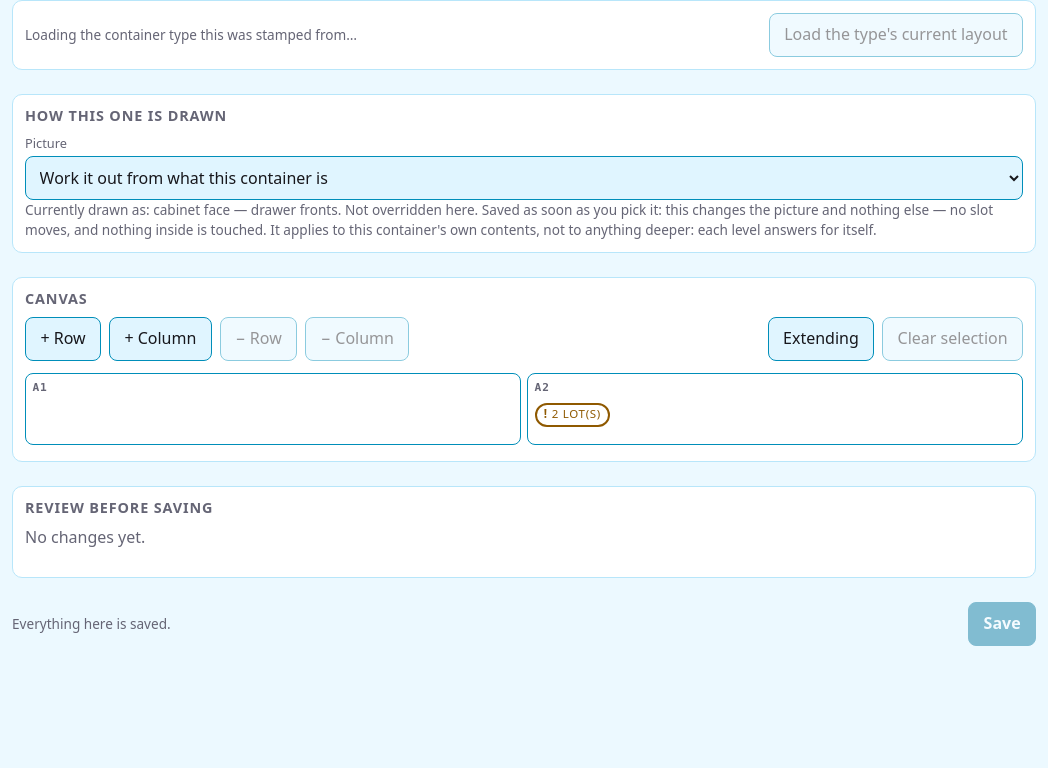
Test: how this one container is drawn › sends an explicit null to hand the drawing back to the type
The image size is (1048, 768).
Select "List — rows, no geometry" in the dropdown labelled "Picture" at (524, 178), box [25, 156, 1023, 200]
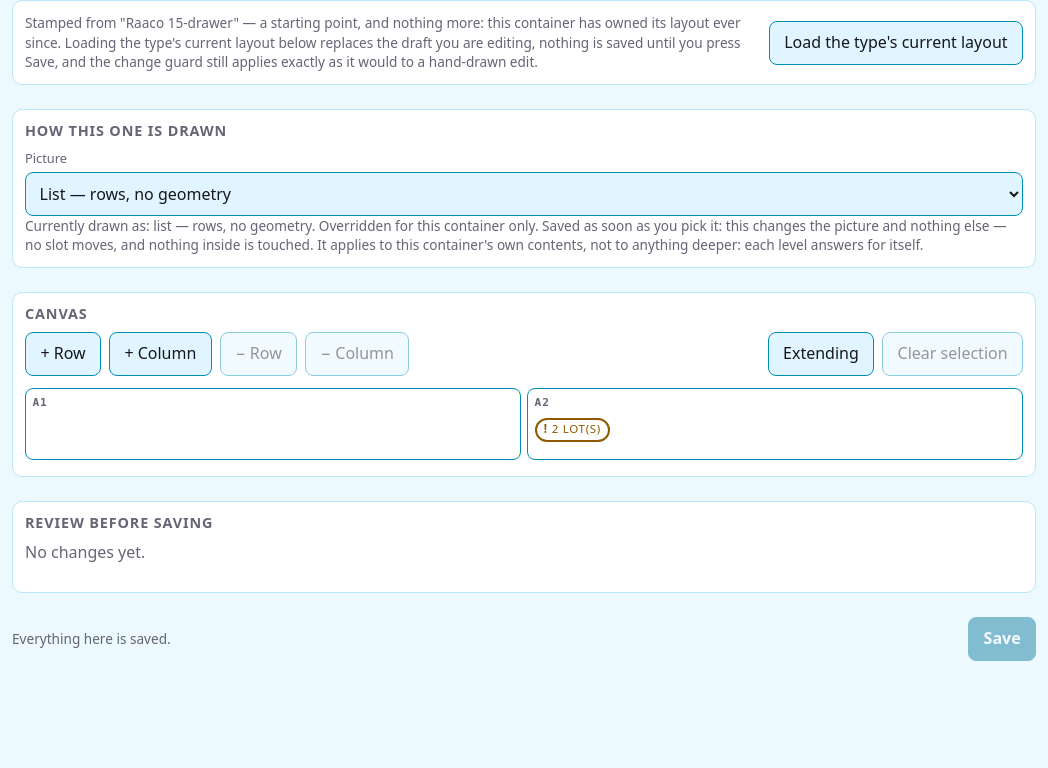
Expected: the text "Overridden for this container only" is shown, [319, 216, 538, 234]
Select "Whatever \"Raaco 15-drawer\" says" in the dropdown labelled "Picture" at (524, 194), box [25, 172, 1023, 216]
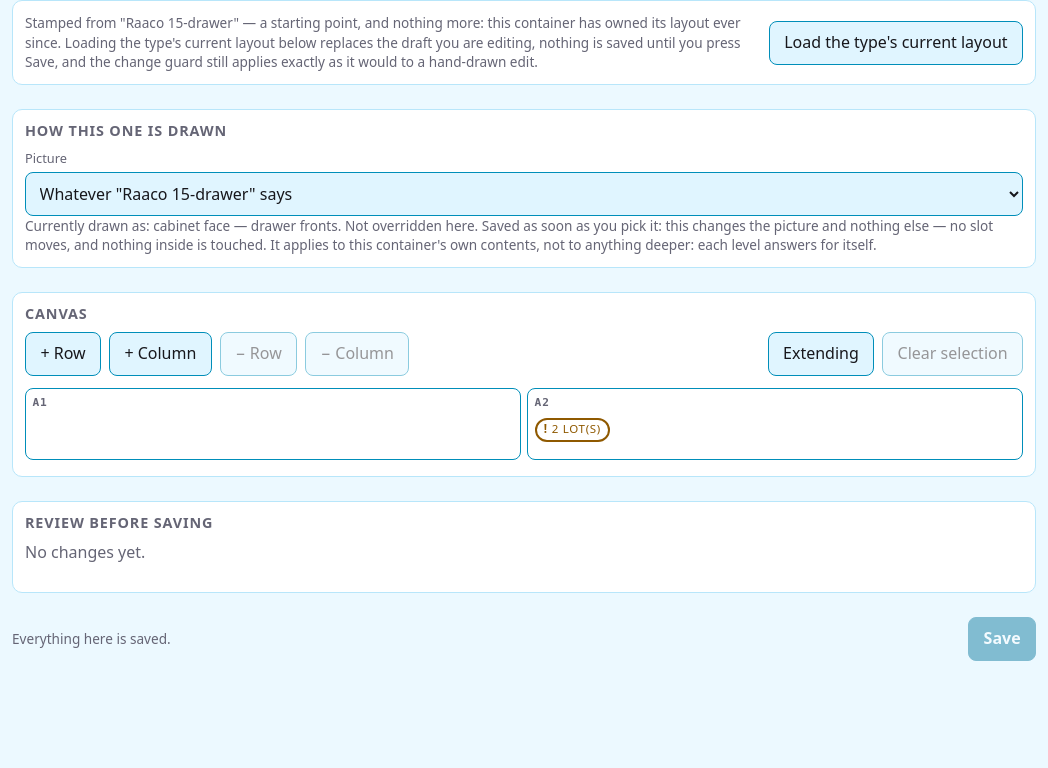
Expected: the text "Not overridden here" is shown, [345, 216, 478, 234]
